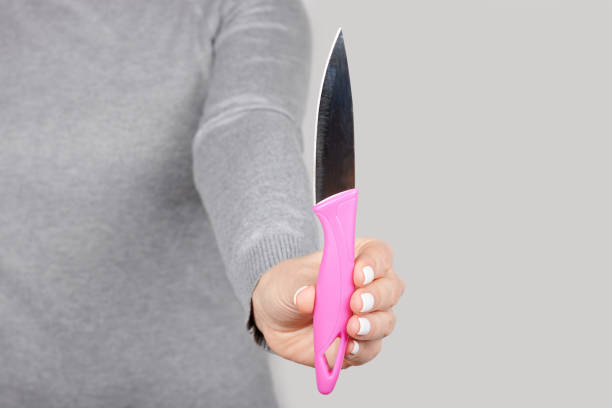knife: (309, 25, 362, 395)
